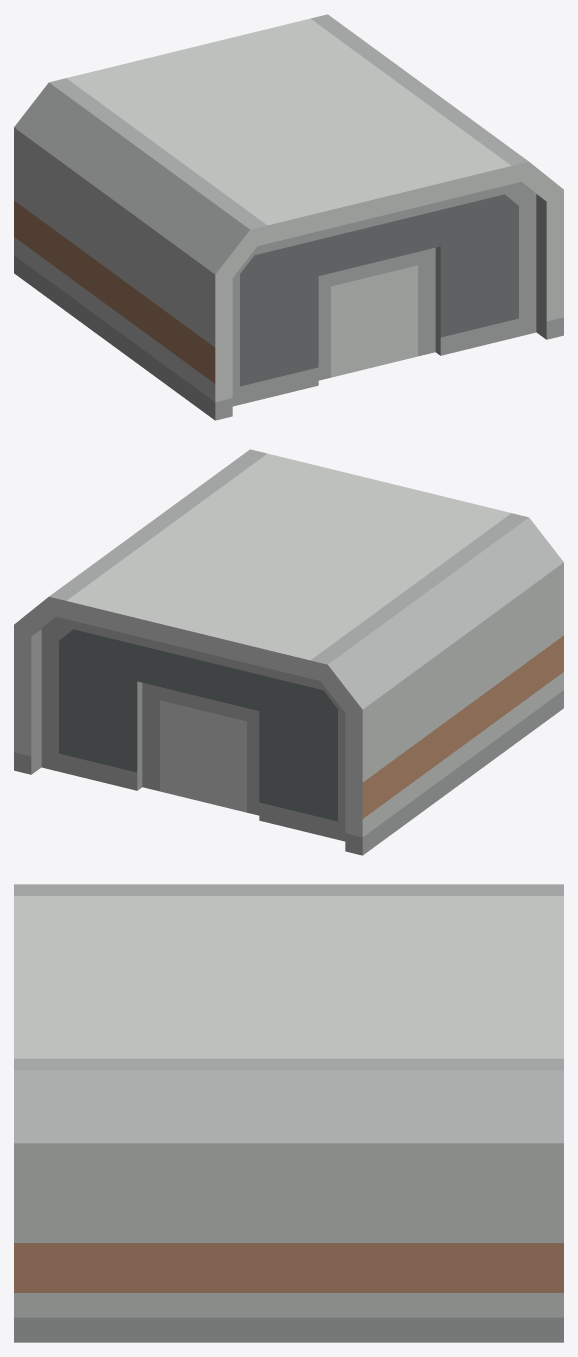
Rendered from srf_shed.glb.
3 views of the same model, one above another, from view 1: azimuth 30°, elevation 25°; view 2: azimuth 150°, elevation 25°; view 3: azimuth 270°, elevation 25° (orthographic). The views are drawn at different scales.
Visible parts, largest first — view 1: hangar_smallA, gate; view 2: hangar_smallA, gate; view 3: hangar_smallA.
Boxes of the visible parts, box(x1,y1,x2,y2) form: hangar_smallA: box(14, 14, 563, 420); gate: box(232, 182, 536, 406); hangar_smallA: box(14, 449, 563, 855); gate: box(41, 617, 345, 841); hangar_smallA: box(14, 884, 563, 1342).
Size of the model in its own units: 2 by 1 by 2.
